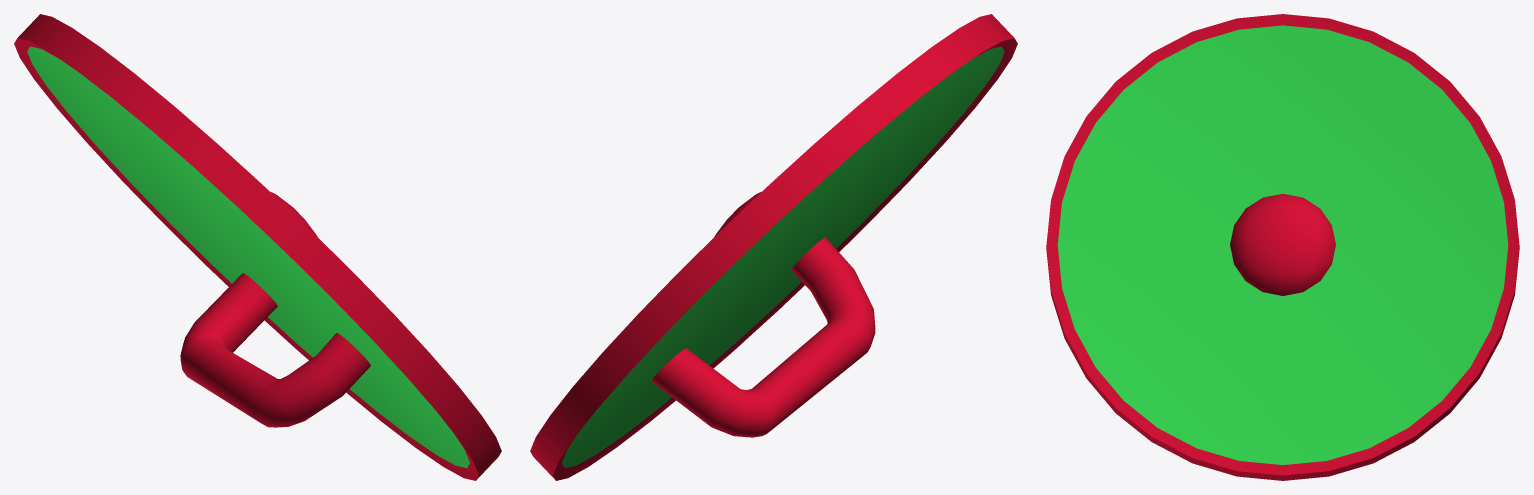
Rendered from ShieldLowPoly.fbx.
The picture shows the model from 3 angles, left to right: view 1: azimuth 30°, elevation 25°; view 2: azimuth 150°, elevation 25°; view 3: azimuth 270°, elevation 25°; orthographic projection. The views are drawn at different scales.
Parts seen in each view (by area): view 1: ShieldLowPoly; view 2: ShieldLowPoly; view 3: ShieldLowPoly.
Boxes of the visible parts, x1,y1,x2,y2 form: ShieldLowPoly: (14, 14, 501, 480); ShieldLowPoly: (530, 14, 1017, 480); ShieldLowPoly: (1046, 14, 1519, 480).
Size of the model in its own units: 43.7 by 55.23 by 67.02.
